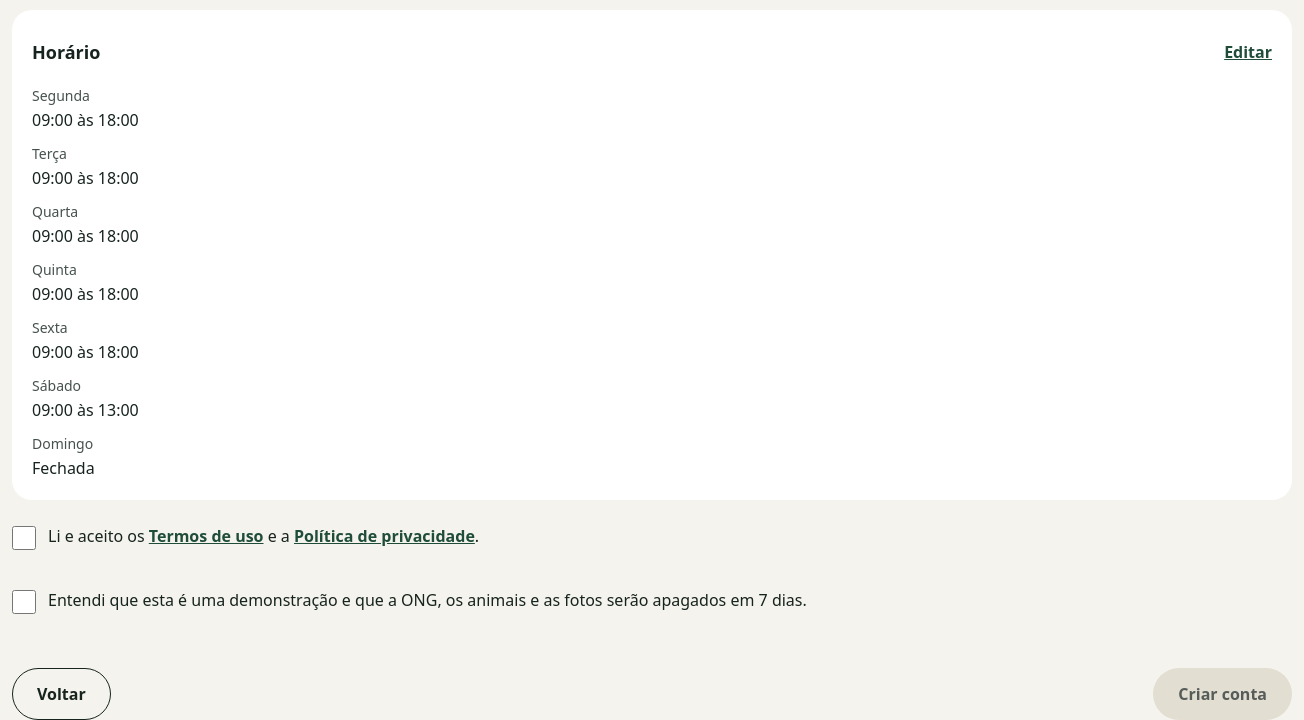
SignupWizard › DIRTY-01/02/03: alterações não salvas › "Criar conta" com erro continua sujo
This screenshot has width=1304, height=720.
(page scrolled)
Click the checkbox named "Li e aceito os Termos de uso e a Política de privacidade." at (24, 538), box [12,526,36,550]
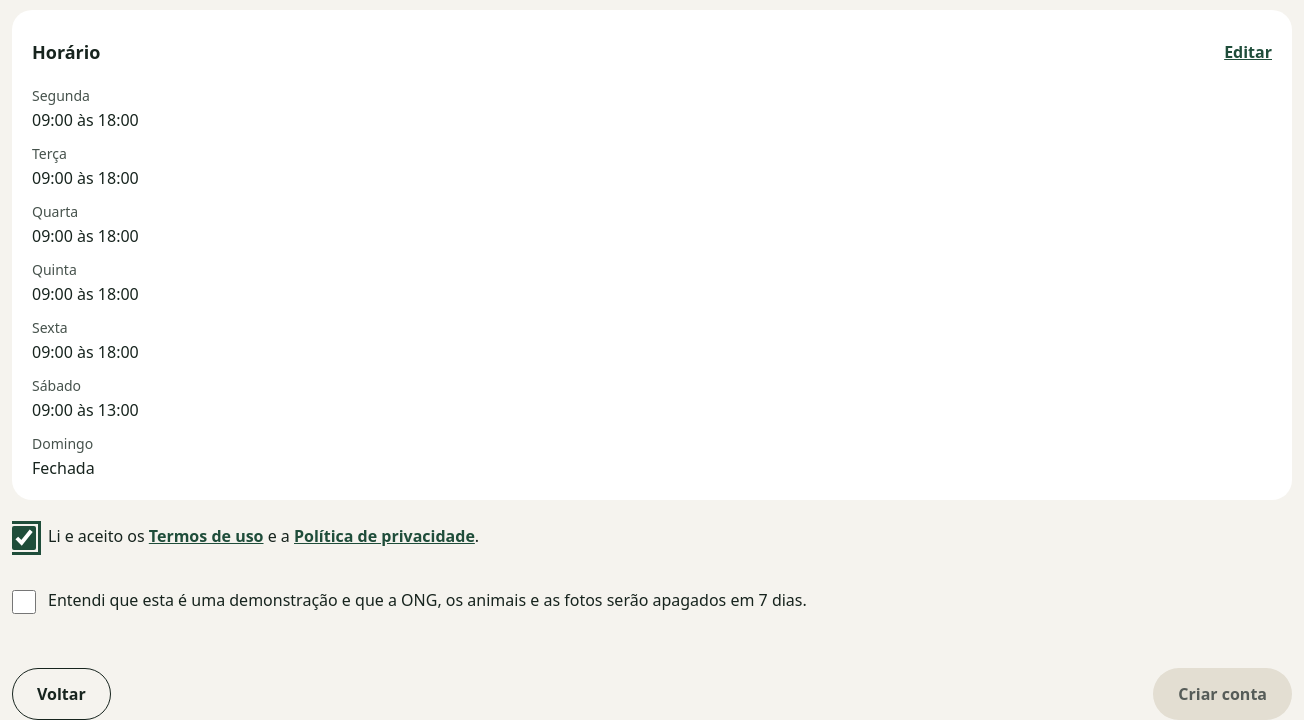
Click the checkbox named "Entendi que esta é uma demonstração e que a ONG, os animais e as fotos serão apagados em 7 dias." at (24, 602), box [12,590,36,614]
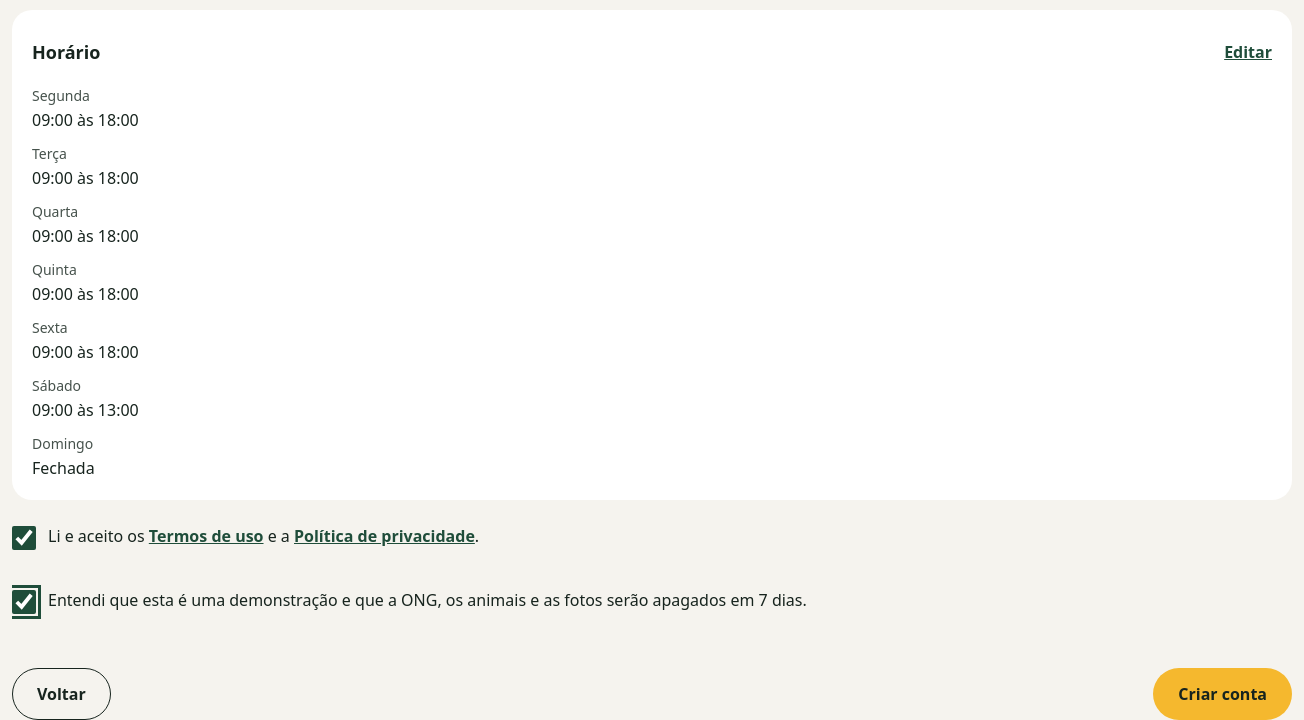
Click the button "Criar conta" at (1223, 694), box [1153,668,1292,719]
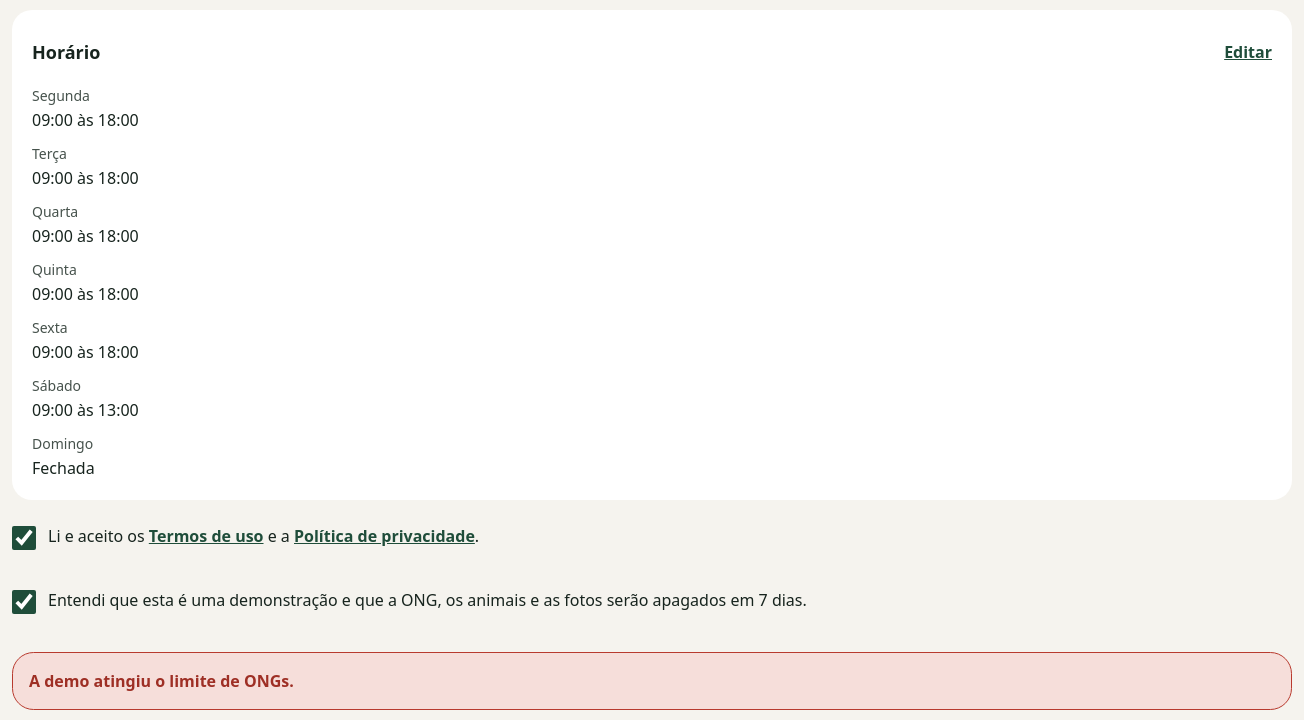
Result: the message "A demo atingiu o limite de ONGs." is shown at [12,652,1292,710]
